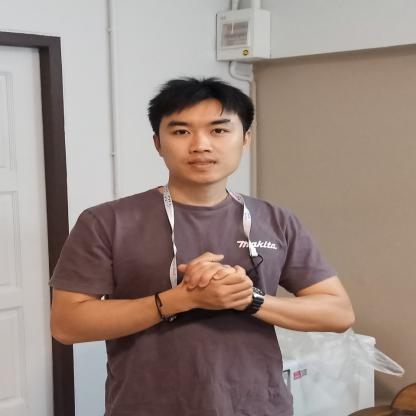Grieve: (154, 242, 301, 332)
